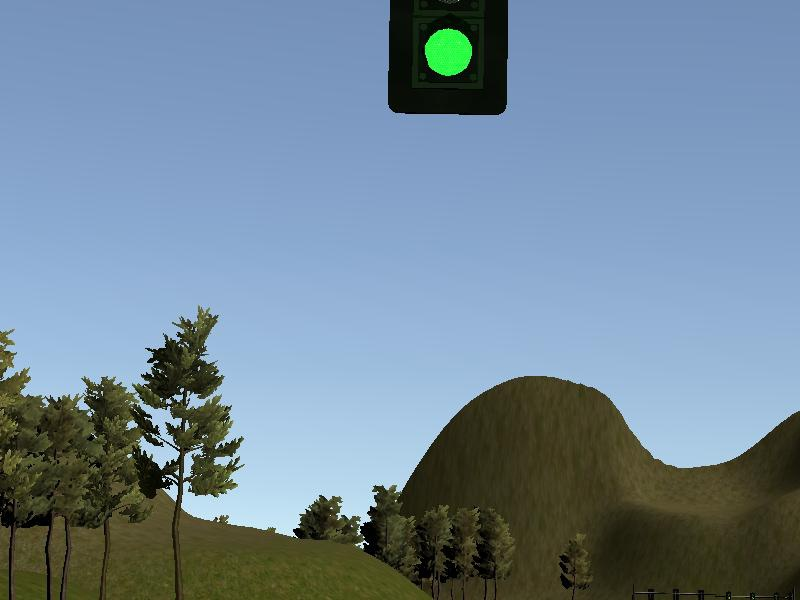green_light: (390, 4, 506, 116)
